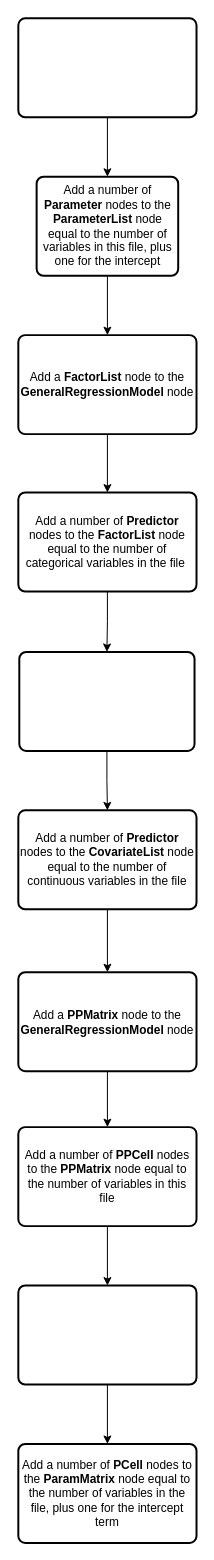
Image size: 214x1560. Some labels were removed from this diagram. The shapes that lost their labels are listed below. From the top down, each one's centre as x and y in pixels, then its label:
At (107,67): "Add a ParameterList node to the GeneralRegressionModel node".
At (106,700): "Add a CovariateList node to the GeneralRegressionModel node".
At (107,1334): "Add a ParamMatrix node to the GeneralRegressionModel node".
